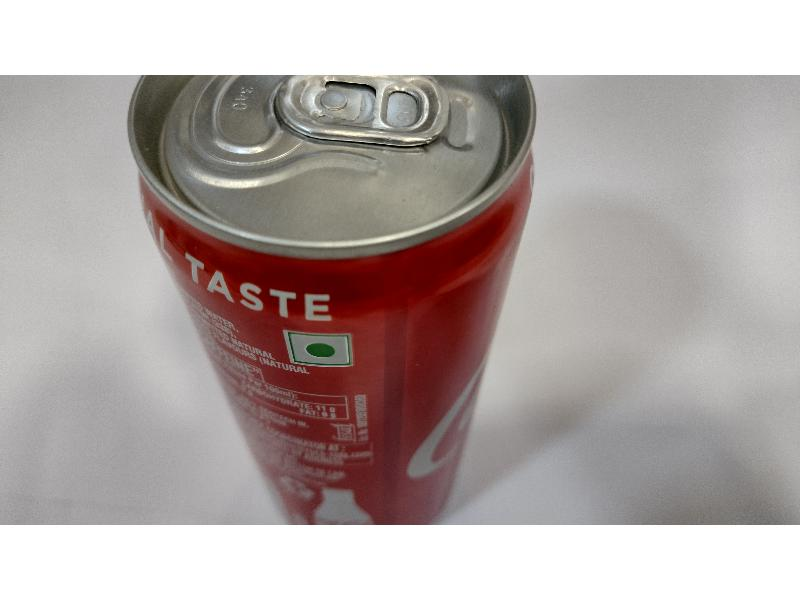can: (126, 75, 540, 523)
